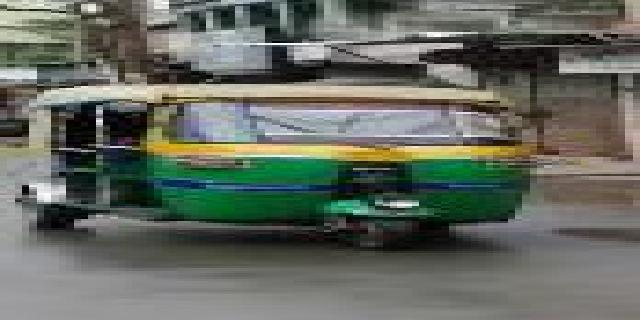Autorickshaw: (18, 78, 537, 253)
